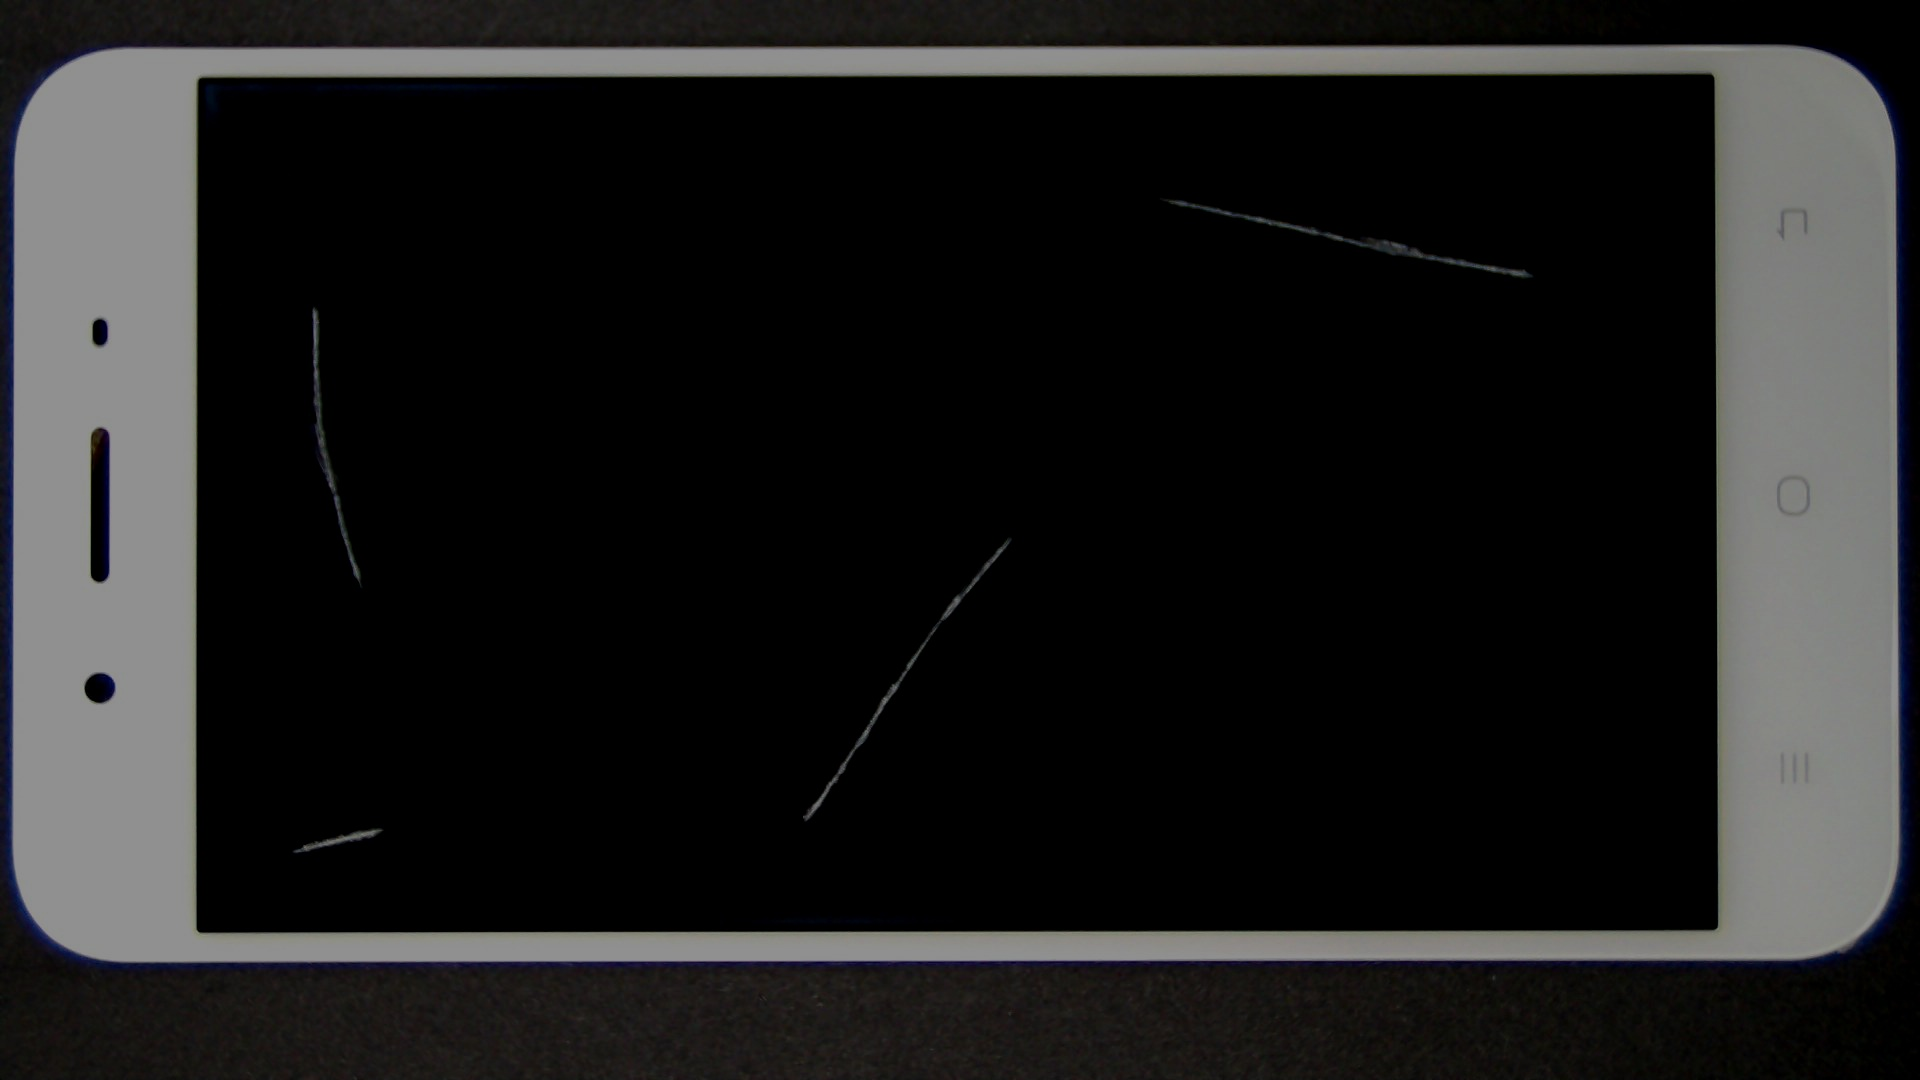oil: (505, 266, 1513, 803), (199, 411, 595, 1080), (576, 98, 1731, 294), (157, 152, 471, 456)
